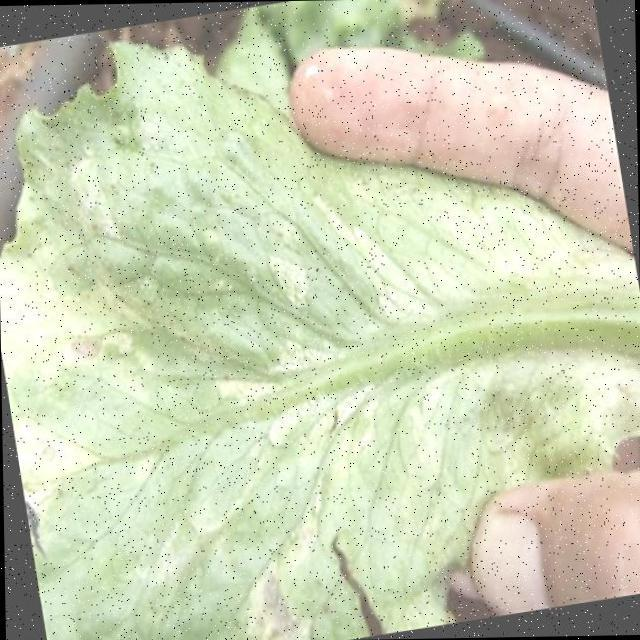Lettuce Mosaic Virus: (0, 169, 461, 640)
